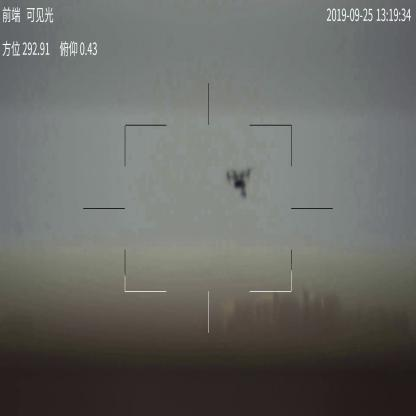uav: (224, 165, 252, 197)
